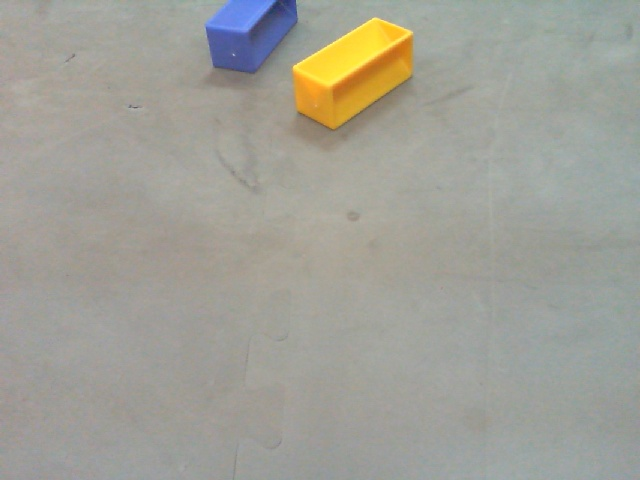BlueSample: (200, 1, 298, 73)
YellowSample: (292, 17, 418, 135)
